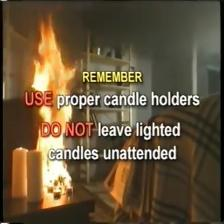fire: (33, 16, 76, 200)
